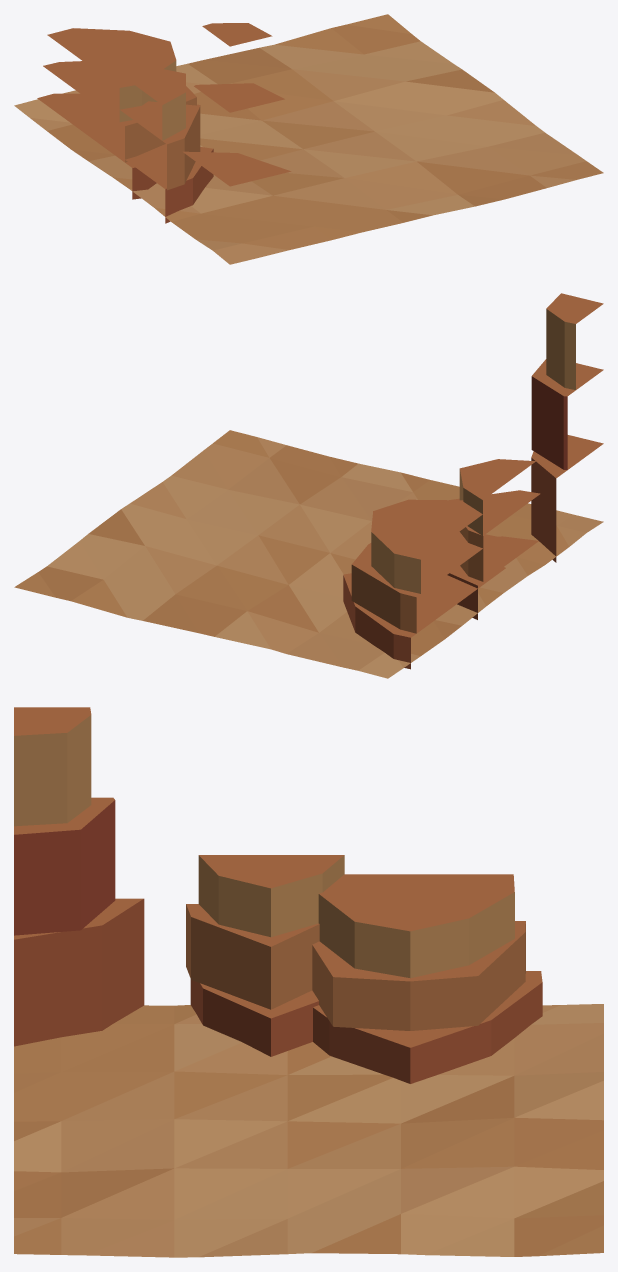
3 views of the same model, one above another, from view 1: azimuth 30°, elevation 25°; view 2: azimuth 150°, elevation 25°; view 3: azimuth 270°, elevation 25° (orthographic). The views are drawn at different scales.
Visible parts, largest first — view 1: baked; view 2: baked; view 3: baked.
Part boxes in pixels (x1,y1,x2,y2): baked: [14, 14, 603, 264]; baked: [14, 293, 603, 678]; baked: [14, 707, 603, 1257].
Bounding box in the file's own units: 62.5 × 35.84 × 62.5.
